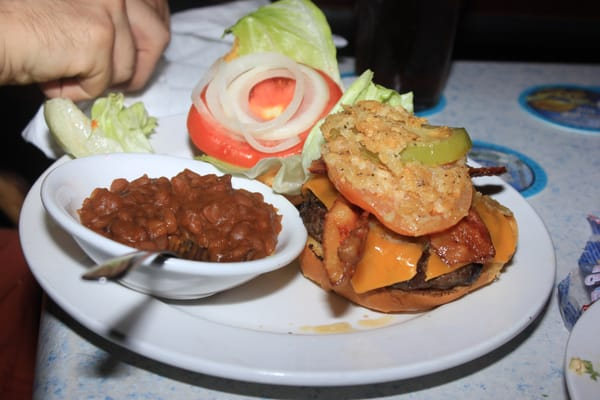pizza: (354, 0, 466, 113)
soup: (298, 93, 517, 313)
sushi: (75, 163, 307, 301), (42, 152, 285, 269)
